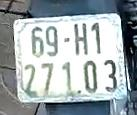0: (83, 59, 100, 93)
1: (60, 56, 73, 94), (92, 21, 104, 58)
2: (21, 58, 38, 94)
3: (102, 57, 119, 91)
6: (30, 24, 46, 59)
7: (39, 61, 56, 96)
9: (45, 24, 60, 57)
H: (72, 23, 88, 58)
